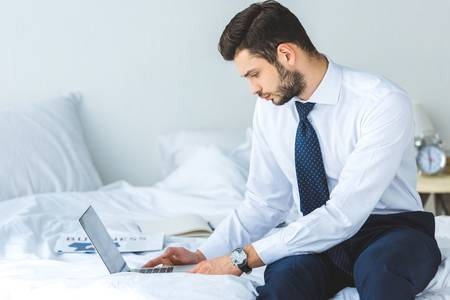F_shirt: (197, 57, 426, 264)
F_tie: (284, 94, 331, 212)
